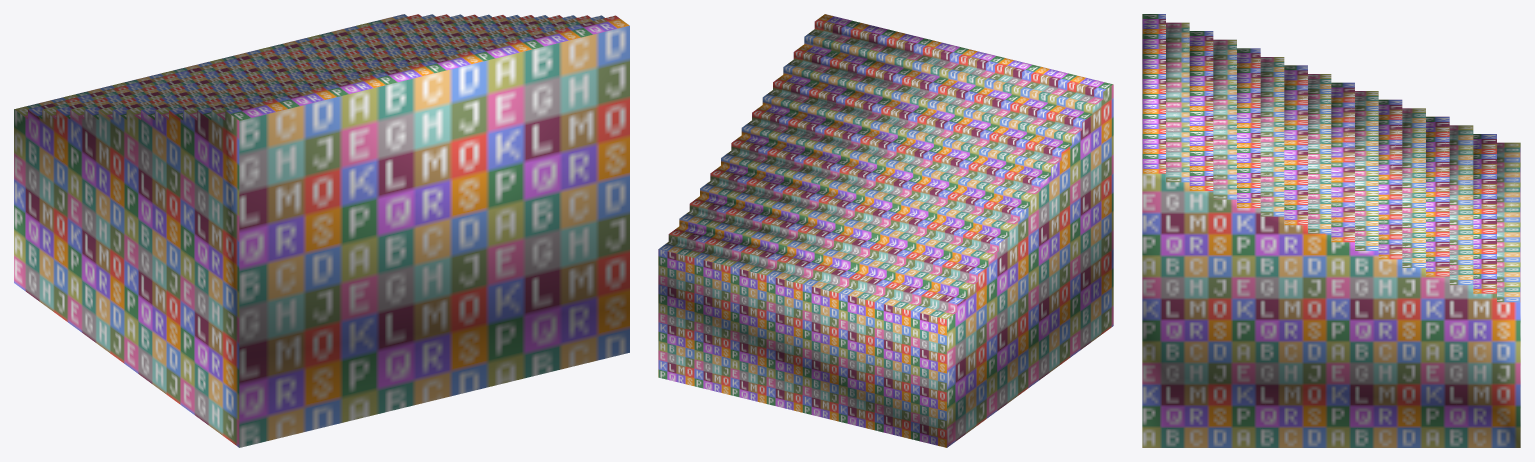
Rendered from stairs_high.obj.
3 views of the same model, side by side, from view 1: azimuth 30°, elevation 25°; view 2: azimuth 150°, elevation 25°; view 3: azimuth 270°, elevation 25° (orthographic). The views are drawn at different scales.
Parts seen in each view (by area): view 1: cube1; view 2: cube1; view 3: cube1.
Part boxes in pixels (bbox=[...]): cube1: bbox=[14, 14, 629, 447]; cube1: bbox=[658, 14, 1113, 447]; cube1: bbox=[1142, 14, 1520, 447].
Size of the model in its own units: 10 by 8 by 10.
1 material, 1 textured.
